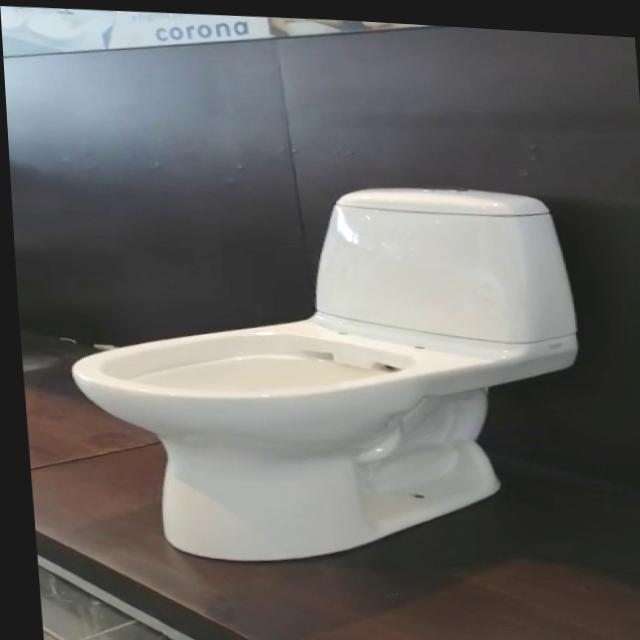toilet: (50, 159, 589, 577)
